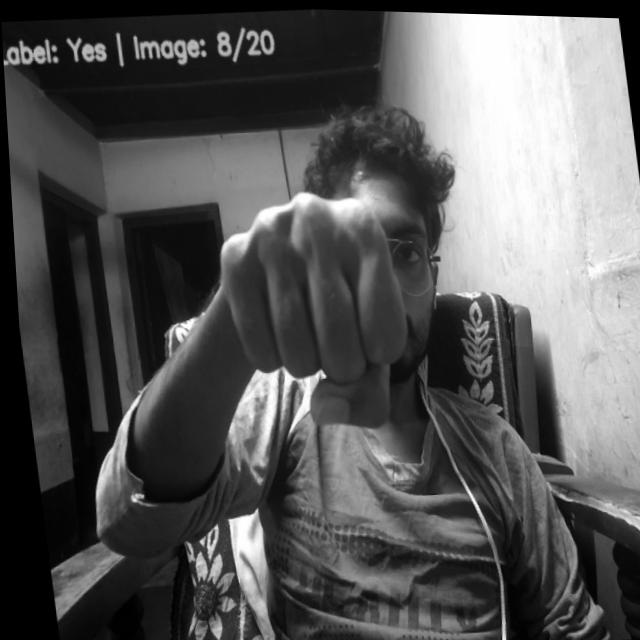Yes: (209, 180, 420, 443)
